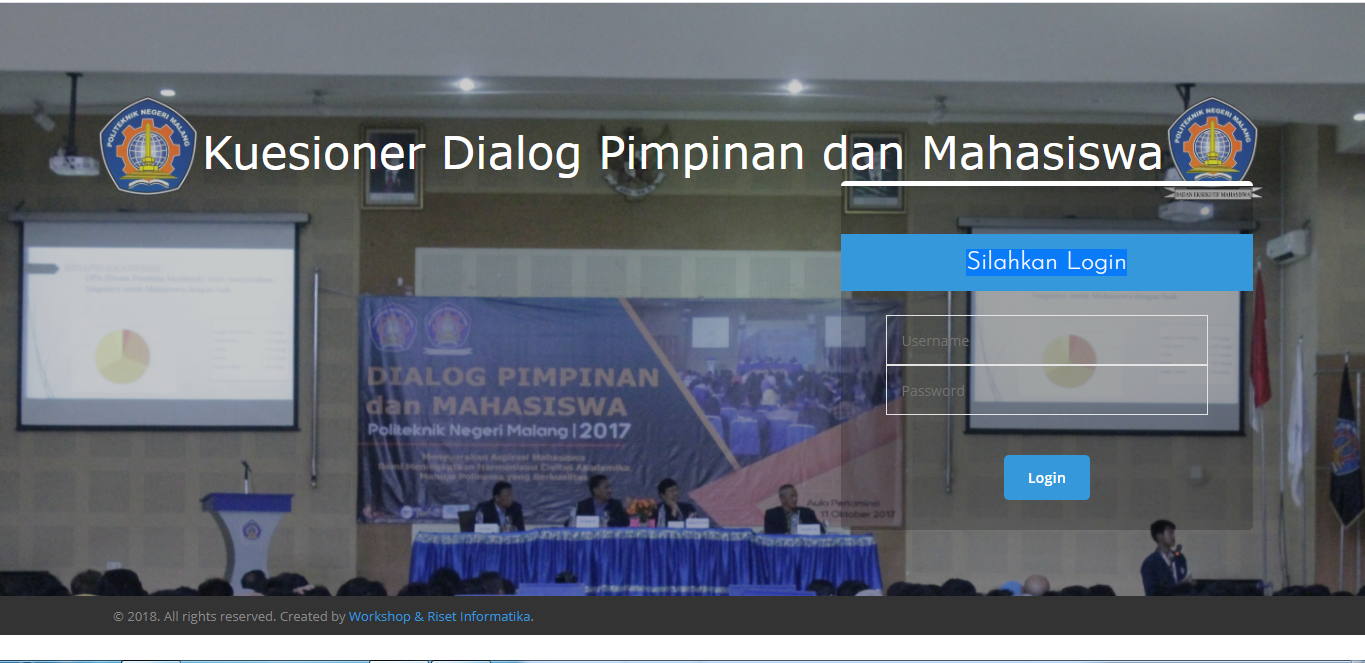Button: (1001, 451, 1094, 507)
Image: (2, 3, 1365, 596), (93, 84, 203, 207), (1165, 92, 1260, 205)
Nav Bar: (103, 603, 543, 630)
Text Field: (882, 362, 1212, 419), (882, 310, 1211, 366)
